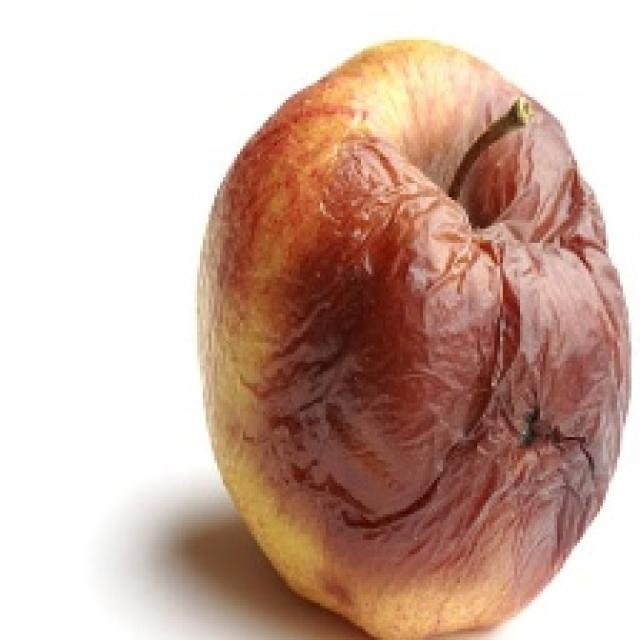rotten_apple: (201, 42, 627, 640)
